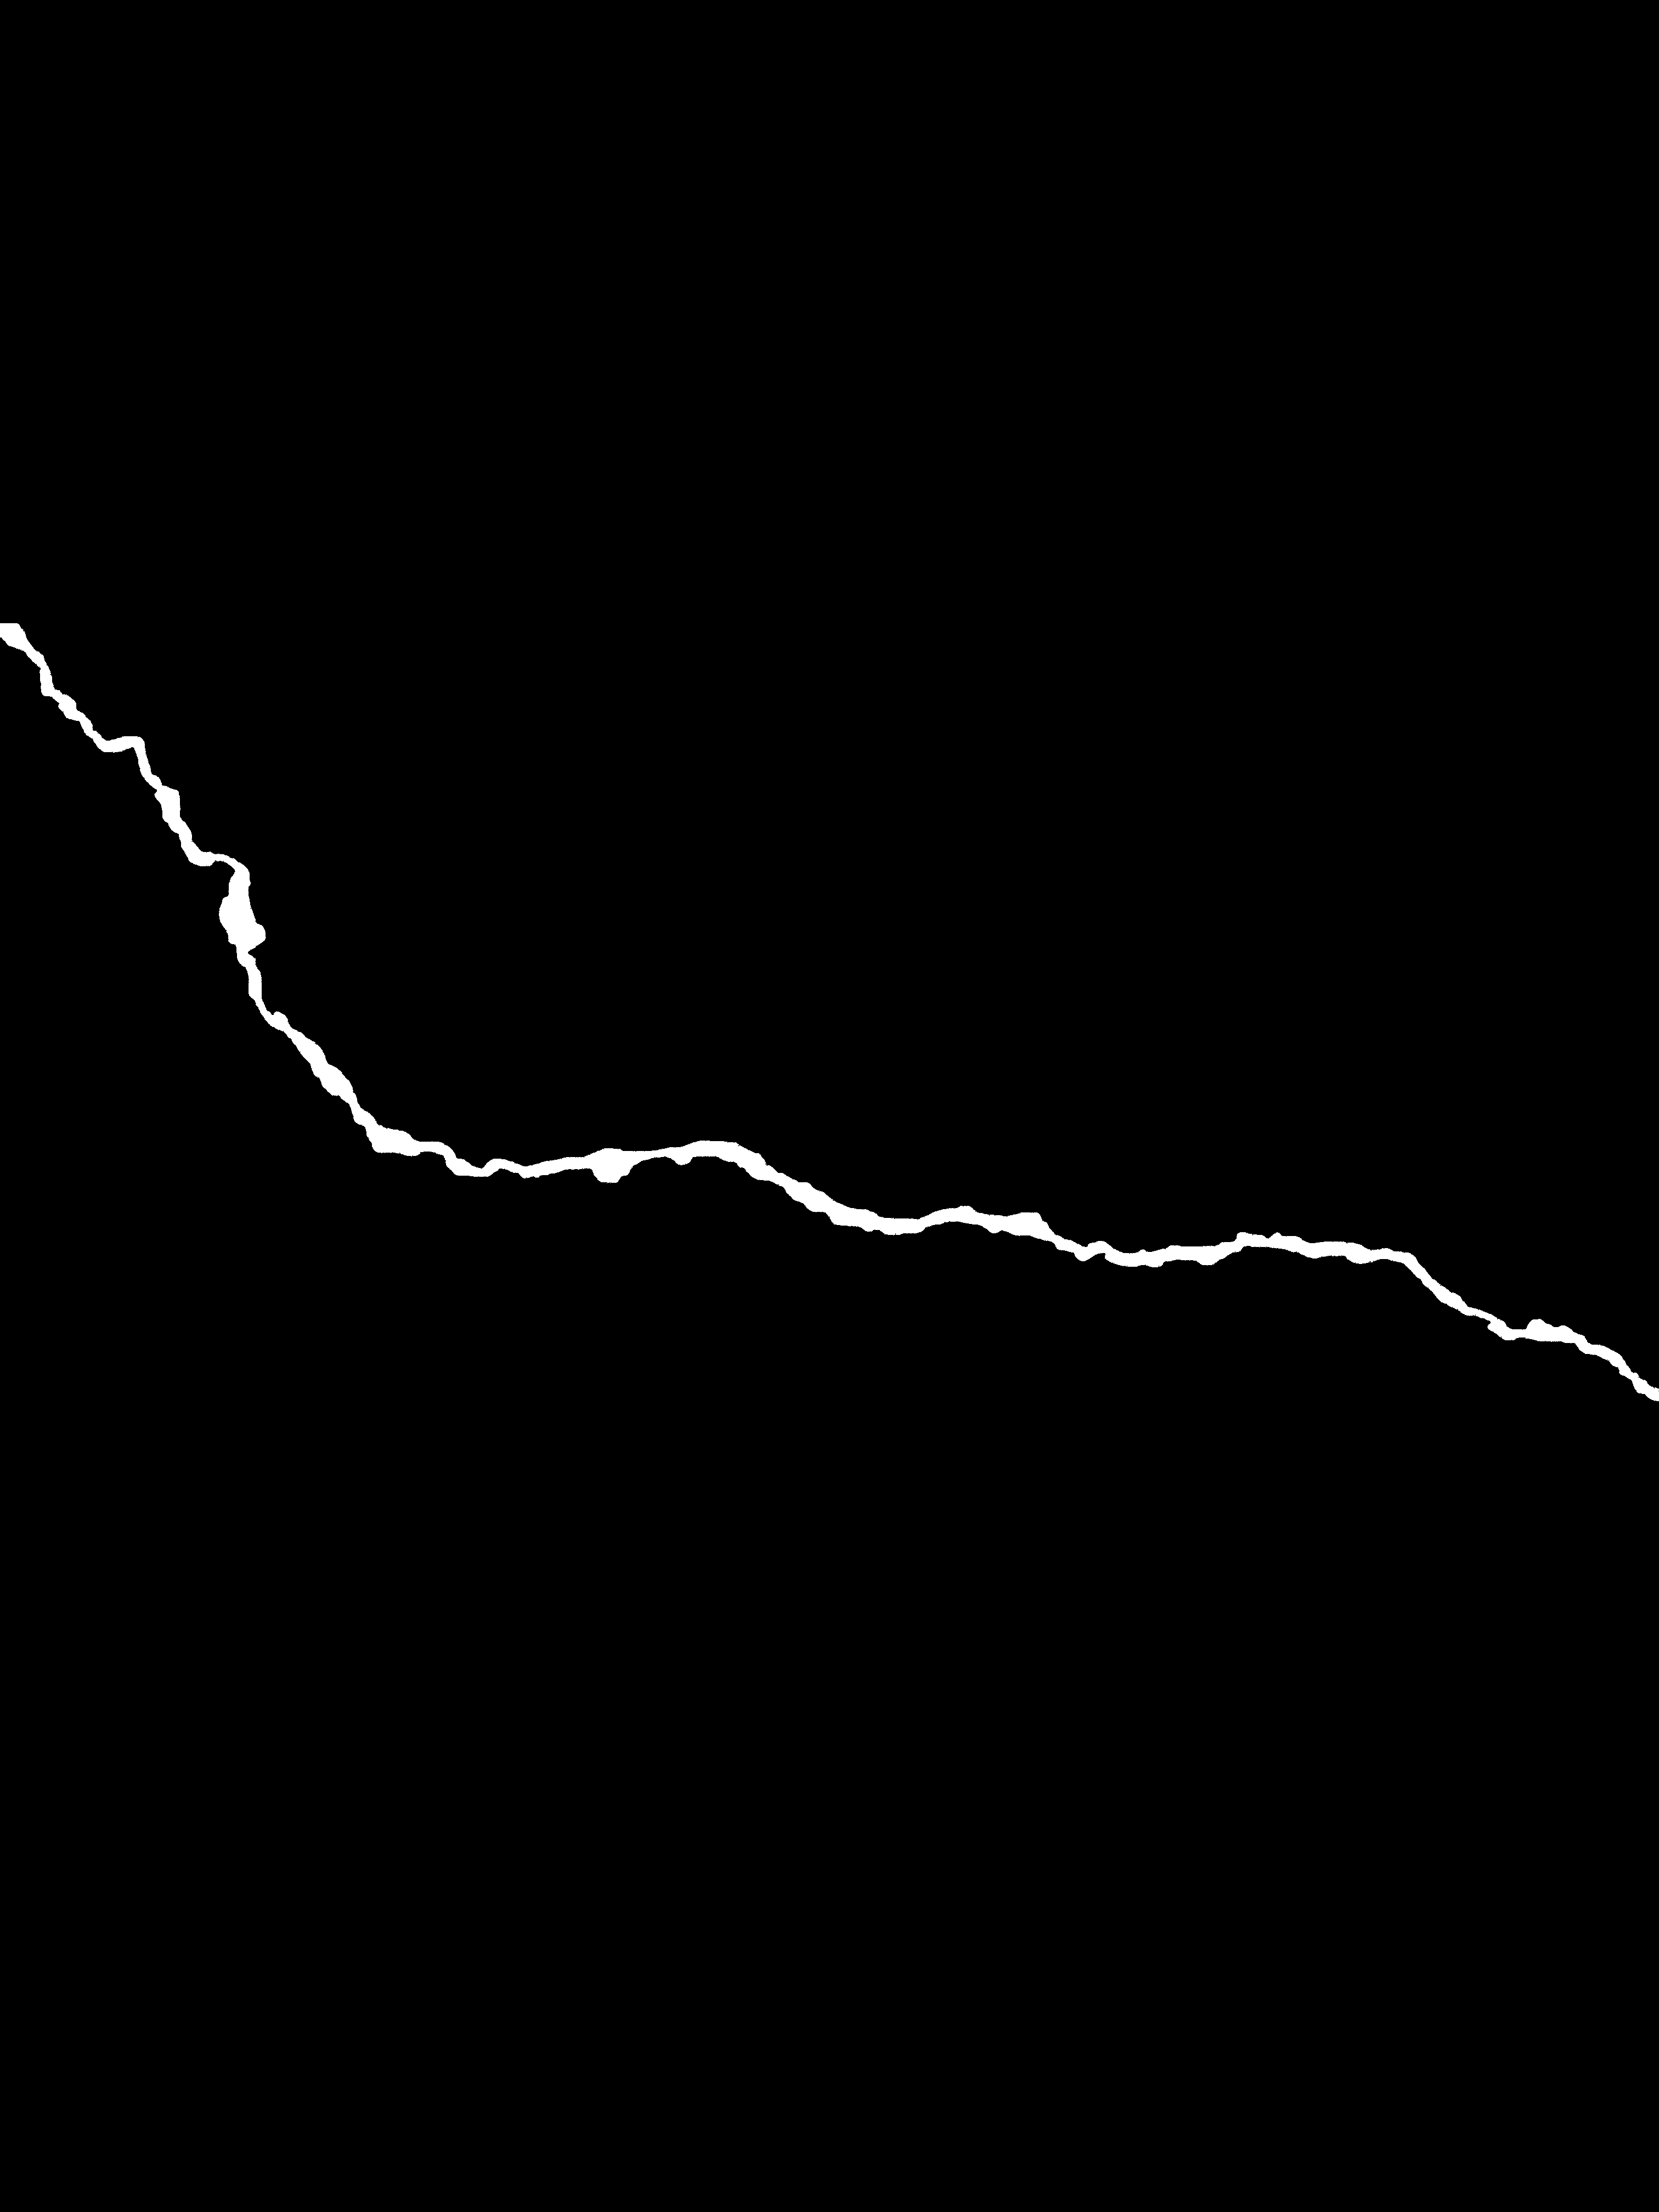Crack: (0, 583, 1659, 1420)
